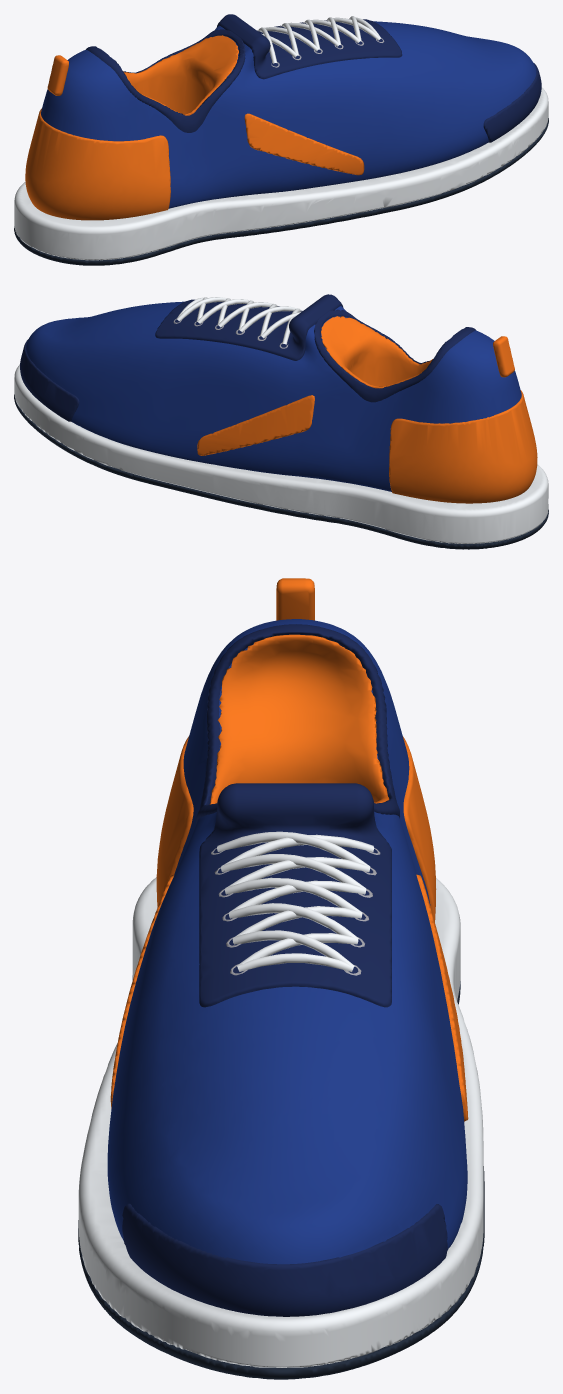
The model's file is aeroflex-sport.glb.
3 renders of one model, top to bottom at view 1: azimuth 30°, elevation 25°; view 2: azimuth 150°, elevation 25°; view 3: azimuth 270°, elevation 25°, orthographic. The views are drawn at different scales.
Visible parts, largest first — view 1: upper, midsole, heel_counter, collar, lining, outsole, object 7; view 2: upper, midsole, heel_counter, collar, lining, outsole, object 7; view 3: upper, collar, midsole, lining, object 7, heel_counter, outsole.
Part boxes in pixels (x1,y1,x2,y2): upper: (41, 21, 536, 208); midsole: (14, 87, 548, 260); heel_counter: (25, 55, 364, 220); collar: (86, 14, 541, 142); lining: (123, 35, 238, 115); outsole: (14, 118, 548, 265); object 7: (258, 16, 381, 63); upper: (26, 301, 521, 491); midsole: (14, 364, 548, 543); heel_counter: (197, 336, 537, 503); collar: (20, 294, 476, 421); lining: (321, 316, 432, 388); outsole: (14, 394, 548, 549); object 7: (176, 297, 300, 344); upper: (107, 619, 467, 1264); collar: (122, 624, 447, 1316); midsole: (78, 877, 483, 1367); lining: (209, 634, 389, 804); object 7: (217, 831, 374, 971); heel_counter: (110, 578, 468, 1121); outsole: (78, 975, 484, 1379).
Size of the model in its own units: 0.9828 by 0.3374 by 0.337.
